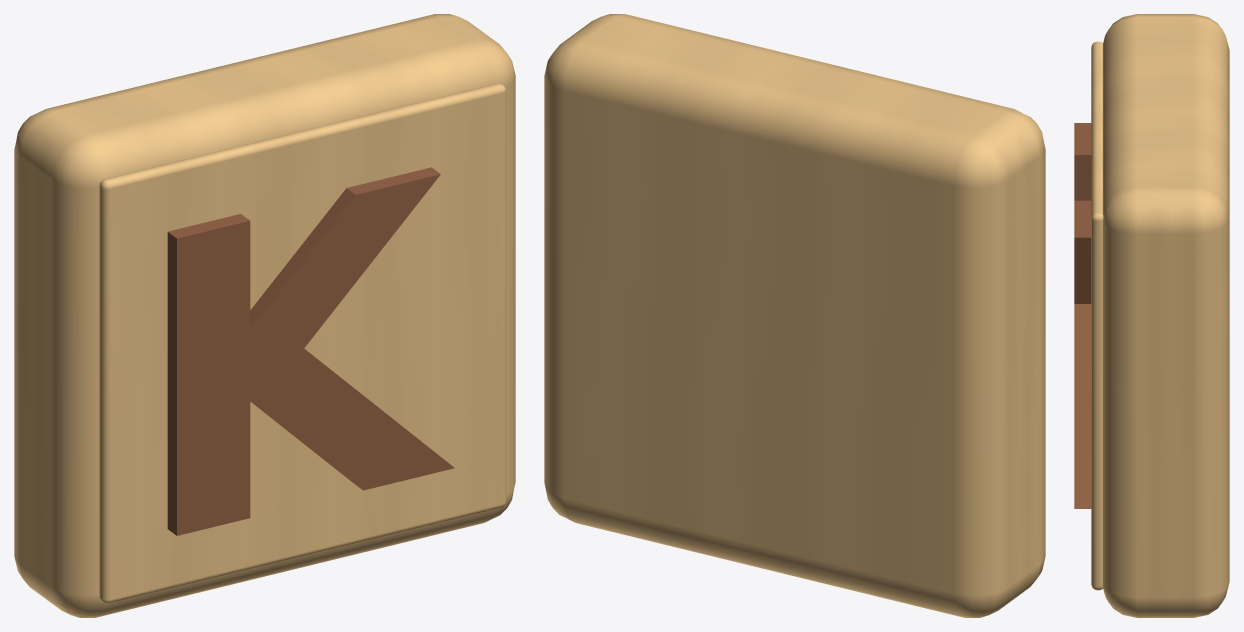
3 renders of one model, left to right at view 1: azimuth 30°, elevation 25°; view 2: azimuth 150°, elevation 25°; view 3: azimuth 270°, elevation 25°, orthographic. The views are drawn at different scales.
Parts seen in each view (by area): view 1: Tile_K; view 2: Tile_K; view 3: Tile_K.
Part boxes in pixels (x1,y1,x2,y2): Tile_K: (14, 14, 515, 617); Tile_K: (544, 14, 1045, 617); Tile_K: (1074, 14, 1229, 617).
Size of the model in its own units: 0.21 by 0.21 by 0.069.
Materials: 2 (1 with a texture image).
